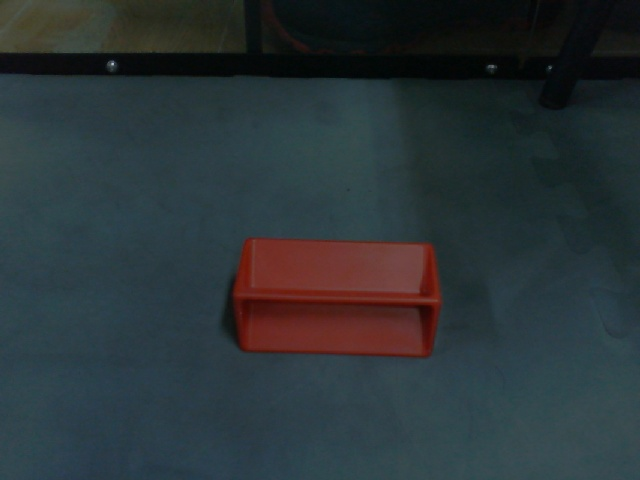RedSample: (228, 235, 443, 360)
